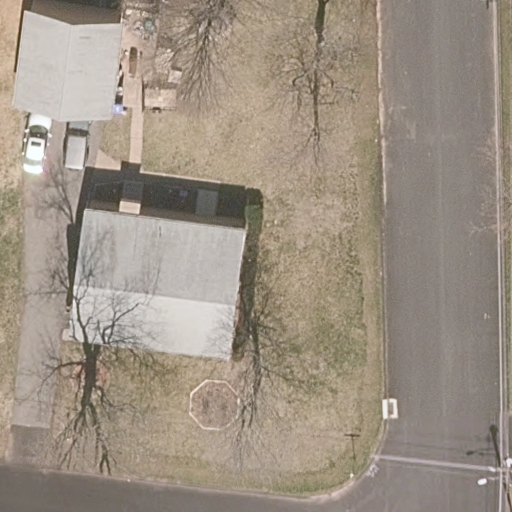DT: (477, 457, 512, 490)
